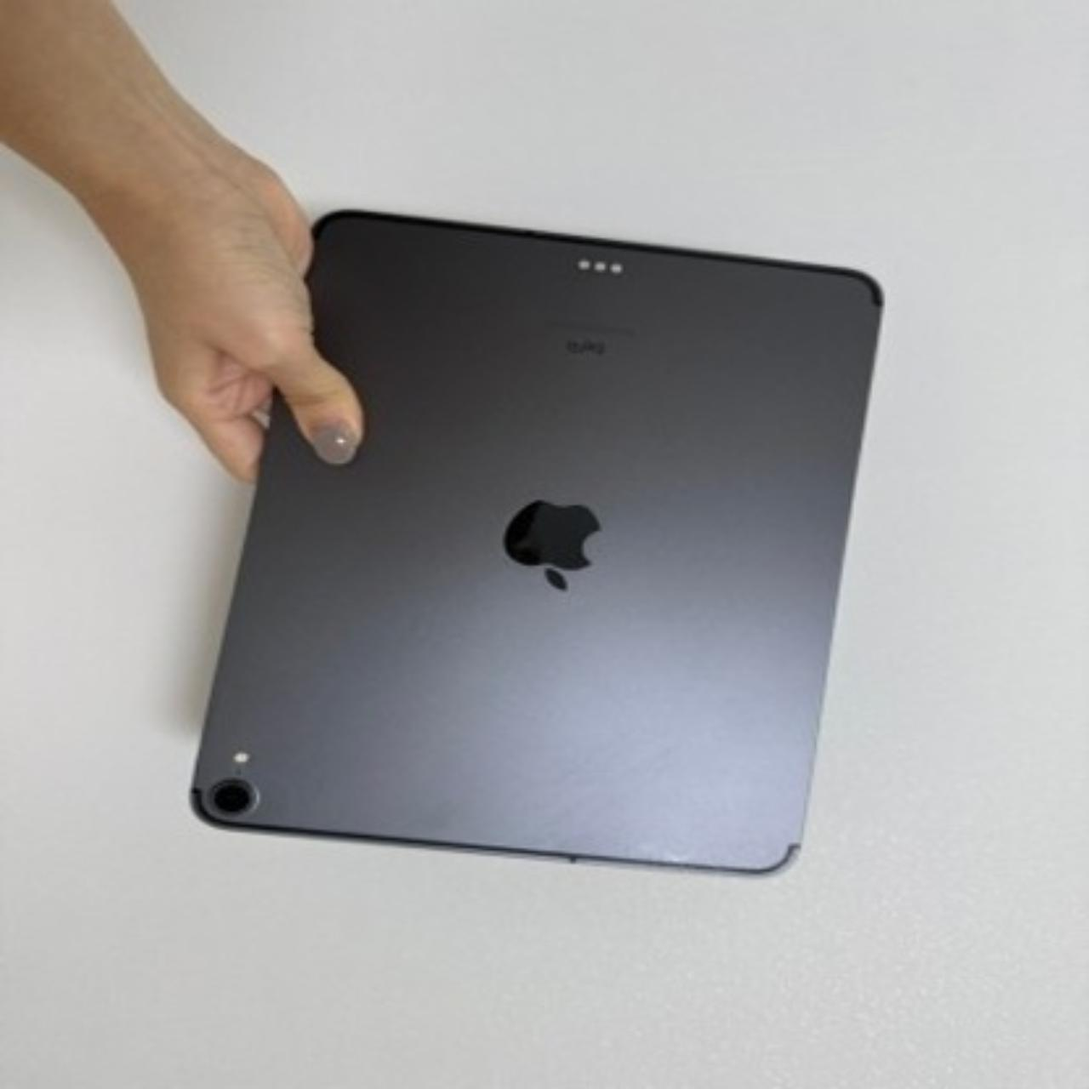Tablet_PC: (176, 181, 898, 887)
